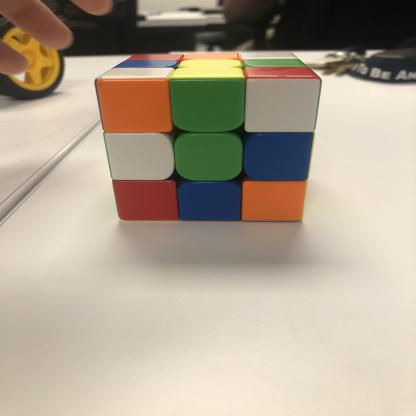UnsolvedCube: (86, 45, 322, 230)
